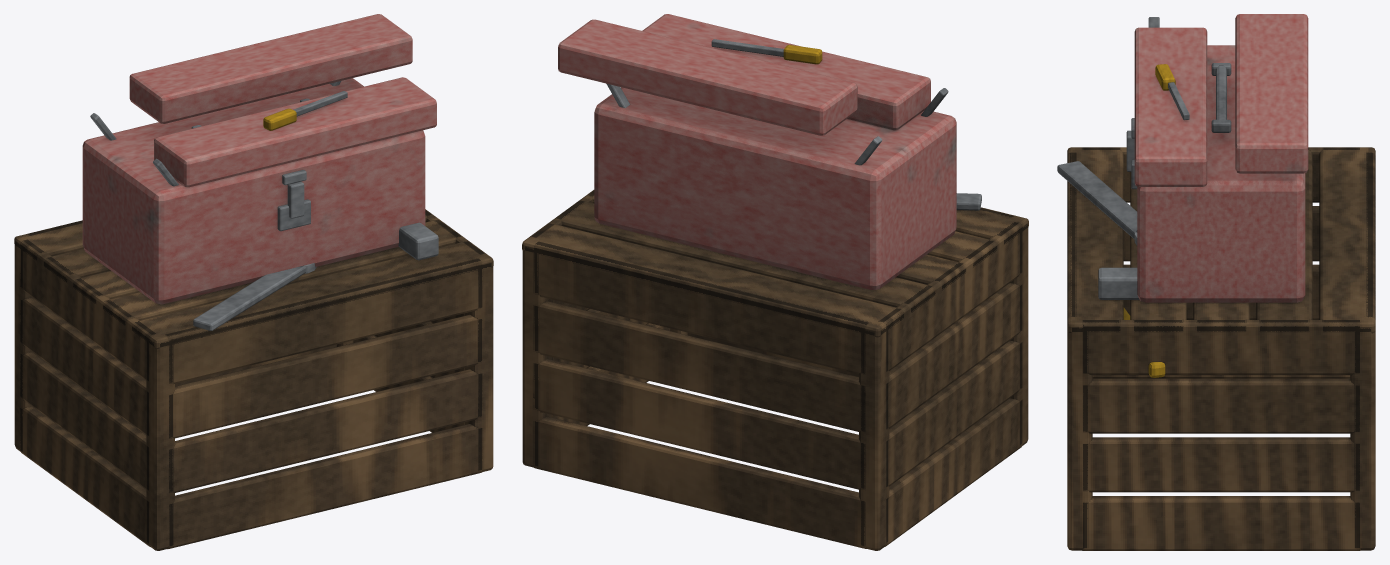
File: poi_tool_box.glb
The picture shows the model from 3 angles, left to right: view 1: azimuth 30°, elevation 25°; view 2: azimuth 150°, elevation 25°; view 3: azimuth 270°, elevation 25°; orthographic projection. The views are drawn at different scales.
Visible parts, largest first — view 1: poi_tool_box; view 2: poi_tool_box; view 3: poi_tool_box.
Part boxes in pixels (left/top/right/bottom): poi_tool_box: left=14, top=14, right=493, bottom=550; poi_tool_box: left=522, top=14, right=1028, bottom=550; poi_tool_box: left=1057, top=14, right=1375, bottom=550.
Size of the model in its own units: 0.7613 by 0.8 by 0.5676.
4 materials, 4 textured.
